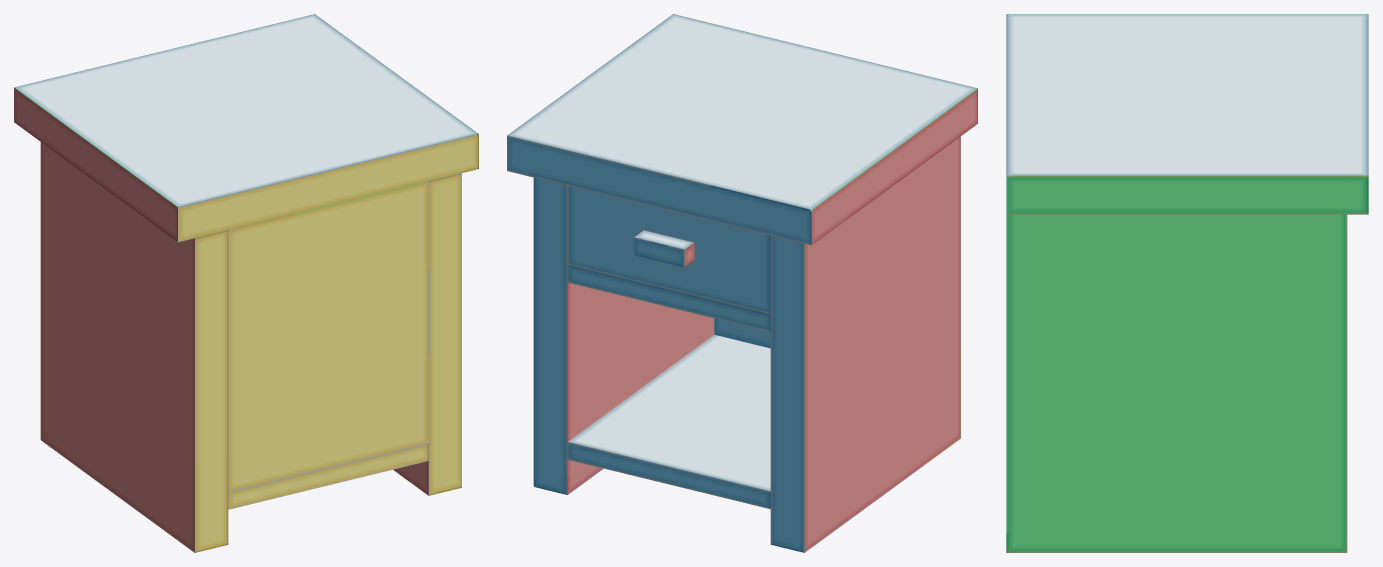
The model's file is Mesa de Luz.fbx.
3 renders of one model, left to right at view 1: azimuth 30°, elevation 25°; view 2: azimuth 150°, elevation 25°; view 3: azimuth 270°, elevation 25°, orthographic. The views are drawn at different scales.
Parts seen in each view (by area): view 1: cube_2, cube_1, cube_4, cube, cube_3; view 2: cube_2, cube_1, cube, cube_3, cube_10, cube_5, cube_11, cube_4; view 3: cube, cube_2.
Boxes of the visible parts, x1=… form: cube_2: x1=14, y1=14, x2=478, y2=242; cube_1: x1=40, y1=142, x2=228, y2=552; cube_4: x1=228, y1=181, x2=428, y2=492; cube: x1=393, y1=173, x2=461, y2=495; cube_3: x1=228, y1=443, x2=428, y2=509; cube_2: x1=507, y1=14, x2=977, y2=245; cube_1: x1=770, y1=136, x2=960, y2=552; cube: x1=533, y1=177, x2=714, y2=494; cube_3: x1=567, y1=334, x2=770, y2=508; cube_10: x1=567, y1=186, x2=770, y2=314; cube_5: x1=567, y1=265, x2=770, y2=331; cube_11: x1=634, y1=230, x2=694, y2=267; cube_4: x1=714, y1=318, x2=770, y2=348; cube: x1=1006, y1=214, x2=1347, y2=552; cube_2: x1=1006, y1=14, x2=1368, y2=214.
Size of the model in its own units: 112 by 125 by 106.
Materials: 1 (1 with a texture image).
